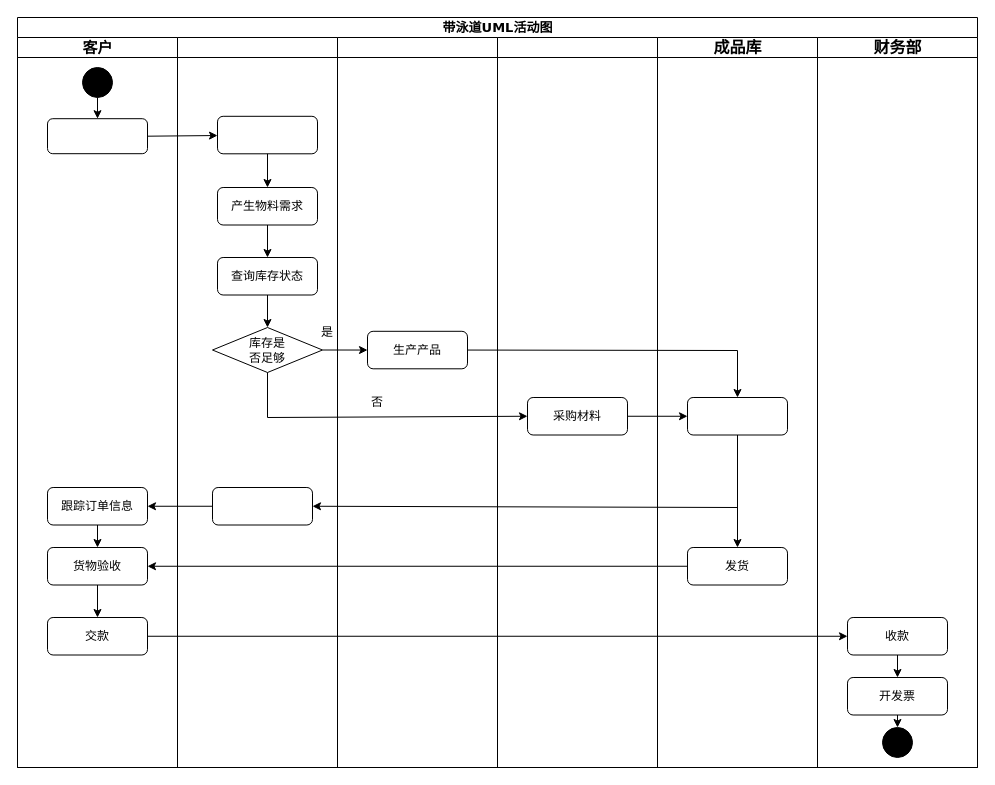
Some shapes in this 995 by 785 pixel diagram are drawn without their labels. The shapes that lost their labels are listed below. From the top down, each one's box as (x1, y1, x2, y2) in pixels, then its label:
(46, 118, 148, 154): 用户下订单
(216, 115, 318, 154): 订单处理
(176, 36, 338, 768): 销售部
(336, 36, 498, 768): 生产部
(496, 36, 658, 768): 采购部
(686, 396, 788, 435): 入库
(212, 486, 312, 525): 发布订单 执行状态
